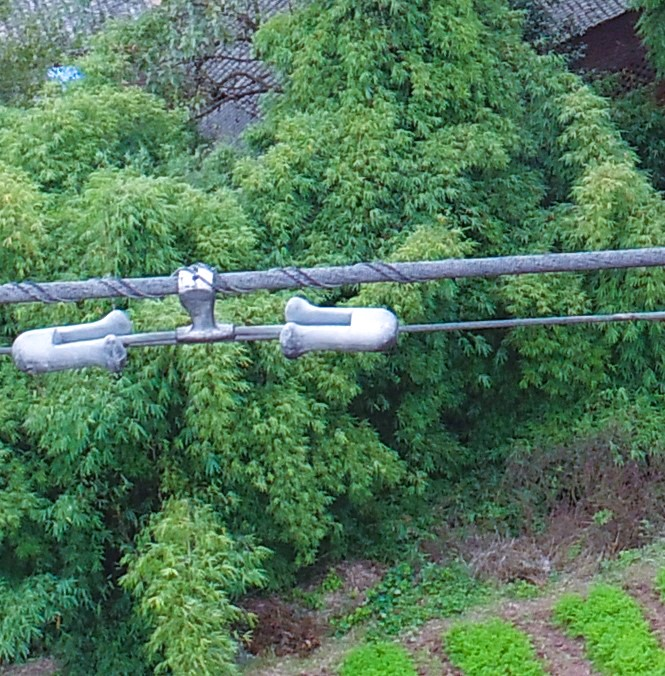Shockproof hammer: (9, 243, 402, 376)
